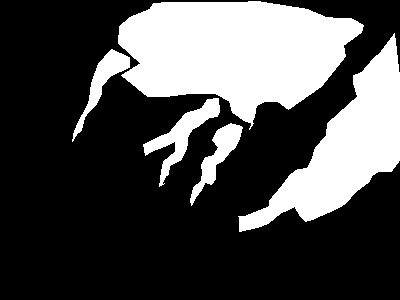Fire: (235, 65, 400, 255), (65, 53, 130, 144), (186, 119, 240, 208), (153, 108, 201, 188)
